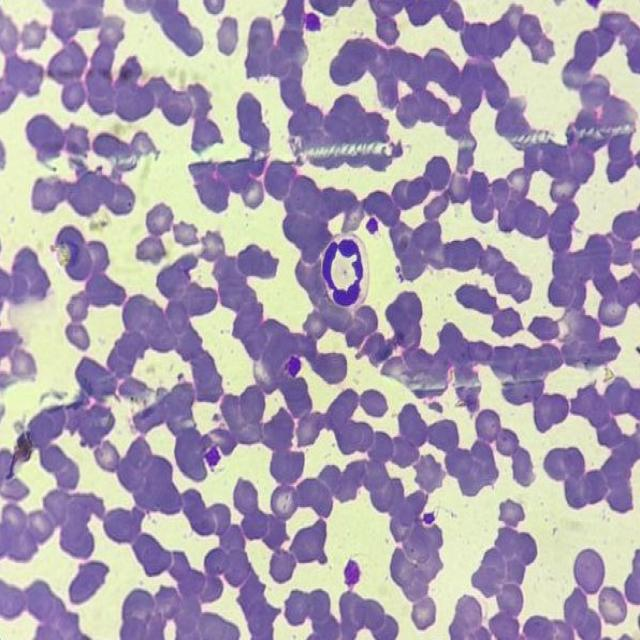Neutrofilo: (320, 227, 372, 314)
